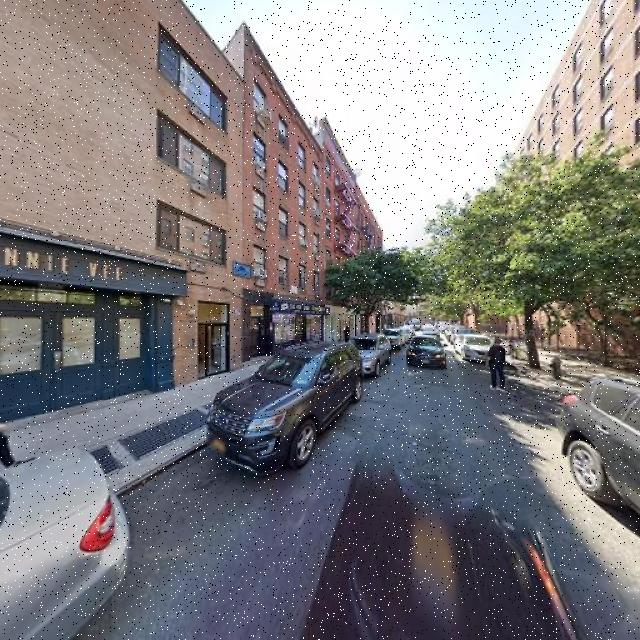Building: (1, 1, 242, 435), (244, 20, 320, 367), (599, 1, 640, 360)
